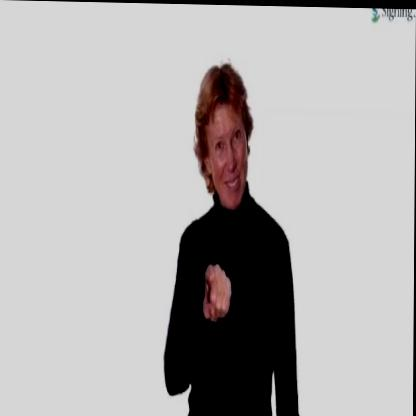NiceToMeetYou: (195, 262, 242, 332)
